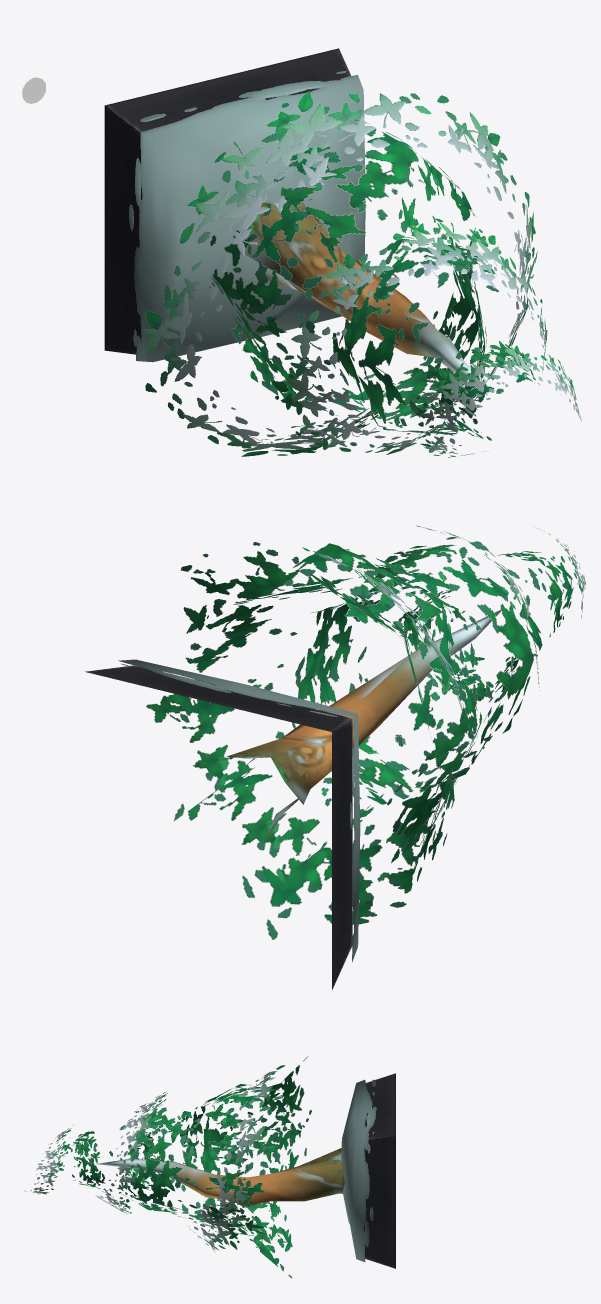
Rendered from compound_tree_winter.glb.
The picture shows the model from 3 angles, top to bottom: view 1: azimuth 30°, elevation 25°; view 2: azimuth 150°, elevation 25°; view 3: azimuth 270°, elevation 25°; orthographic projection. The views are drawn at different scales.
Parts seen in each view (by area): view 1: sky_islands_day.tree_winter-Mesh[2], sky_islands_day.tree_winter-Mesh[0], sky_islands_day.tree_winter-Mesh[1], sky_islands_day.tree_winter-Mesh[3]; view 2: sky_islands_day.tree_winter-Mesh[2], sky_islands_day.tree_winter-Mesh[1], sky_islands_day.tree_winter-Mesh[3], sky_islands_day.tree_winter-Mesh[0]; view 3: sky_islands_day.tree_winter-Mesh[2], sky_islands_day.tree_winter-Mesh[1], sky_islands_day.tree_winter-Mesh[3], sky_islands_day.tree_winter-Mesh[0].
Boxes of the visible parts, x1=… form: sky_islands_day.tree_winter-Mesh[2]: x1=143, y1=91, x2=581, y2=457; sky_islands_day.tree_winter-Mesh[0]: x1=129, y1=71, x2=365, y2=362; sky_islands_day.tree_winter-Mesh[1]: x1=104, y1=48, x2=351, y2=354; sky_islands_day.tree_winter-Mesh[3]: x1=242, y1=202, x2=487, y2=386; sky_islands_day.tree_winter-Mesh[2]: x1=146, y1=525, x2=585, y2=939; sky_islands_day.tree_winter-Mesh[1]: x1=85, y1=665, x2=352, y2=989; sky_islands_day.tree_winter-Mesh[3]: x1=227, y1=610, x2=501, y2=842; sky_islands_day.tree_winter-Mesh[0]: x1=118, y1=659, x2=360, y2=962; sky_islands_day.tree_winter-Mesh[2]: x1=24, y1=1056, x2=311, y2=1278; sky_islands_day.tree_winter-Mesh[1]: x1=364, y1=1073, x2=395, y2=1268; sky_islands_day.tree_winter-Mesh[3]: x1=96, y1=1148, x2=344, y2=1206; sky_islands_day.tree_winter-Mesh[0]: x1=341, y1=1079, x2=376, y2=1262.
Bounding box in the file's own units: 3.26 × 3.6 × 7.78.
Materials: 5 (5 with a texture image).
